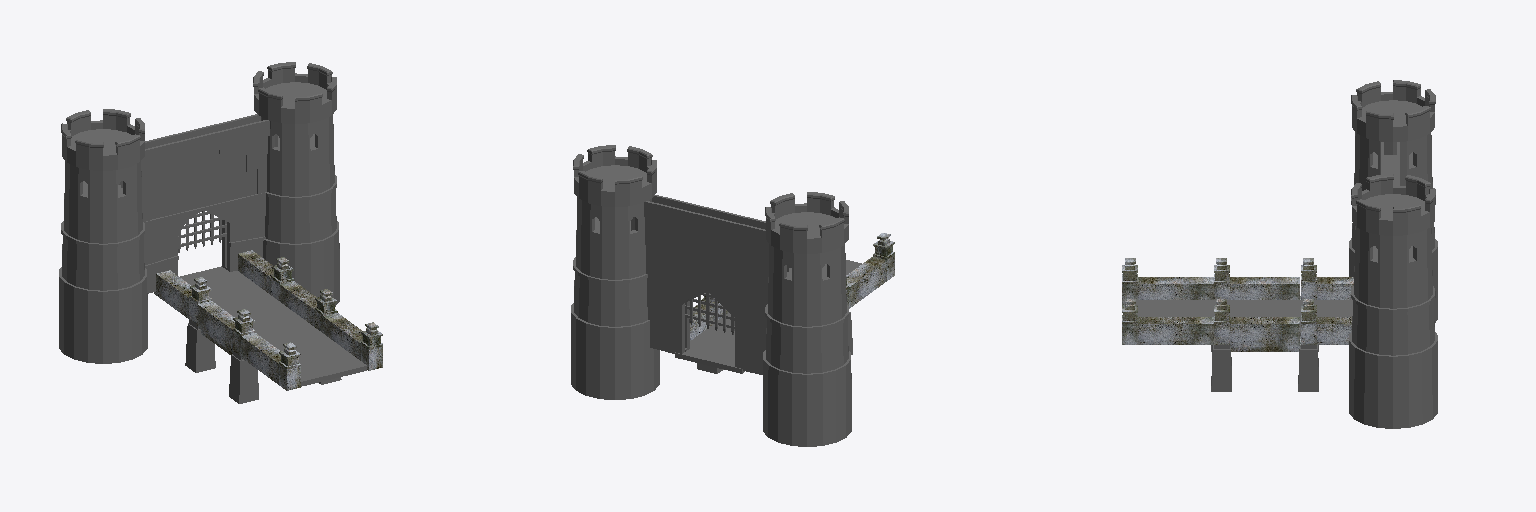
3 renders of one model, left to right at view 1: azimuth 30°, elevation 25°; view 2: azimuth 150°, elevation 25°; view 3: azimuth 270°, elevation 25°, orthographic.
Size of the model in its own units: 4.49 by 3.54 by 4.55.
Materials: 4 (1 with a texture image).